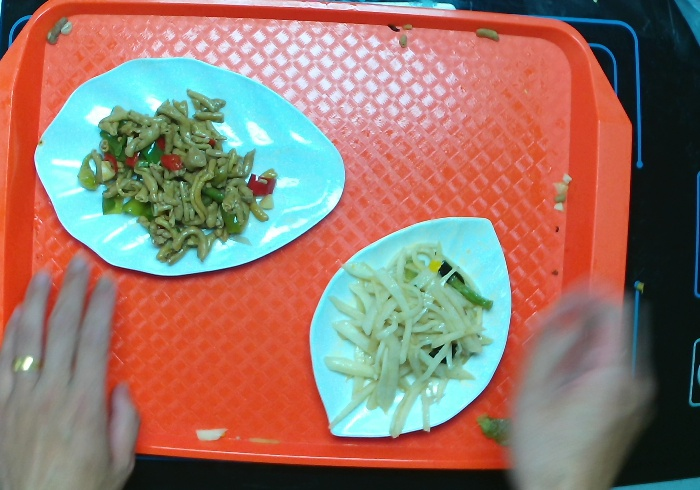RJxy-Bai_Ye_Pan: (34, 51, 352, 281)
RJxy-Da_Du_Pan: (303, 210, 516, 442)
